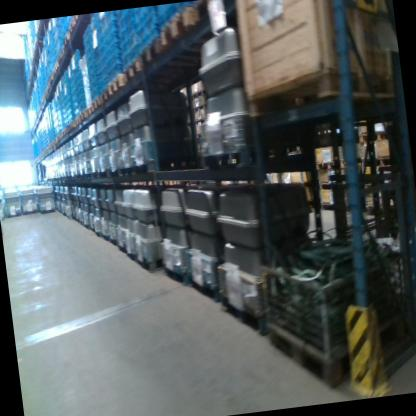pallet: (157, 2, 216, 58), (137, 31, 201, 79), (218, 285, 270, 340), (199, 144, 256, 171), (187, 267, 221, 305), (161, 256, 190, 288), (133, 247, 163, 275), (121, 57, 143, 83), (106, 71, 127, 96), (66, 17, 87, 36), (62, 30, 82, 46), (131, 161, 156, 173), (97, 85, 110, 104), (73, 13, 91, 25), (190, 88, 206, 100), (118, 165, 133, 176), (90, 97, 101, 111), (21, 207, 38, 215), (39, 207, 56, 214), (193, 103, 206, 112), (194, 116, 207, 125), (107, 168, 120, 177), (78, 110, 88, 121), (97, 169, 108, 179), (5, 211, 22, 217), (33, 36, 43, 46), (56, 51, 64, 63), (85, 104, 93, 115), (68, 120, 76, 131), (53, 60, 60, 72), (32, 43, 42, 51), (74, 116, 81, 126), (47, 74, 54, 84), (36, 22, 44, 30), (91, 170, 98, 178), (60, 45, 66, 54), (61, 128, 67, 136), (65, 125, 70, 133), (52, 68, 56, 76), (47, 81, 51, 89), (55, 138, 59, 143), (44, 91, 48, 96), (46, 86, 49, 92), (46, 146, 49, 151)
stillage: (253, 221, 416, 392)
